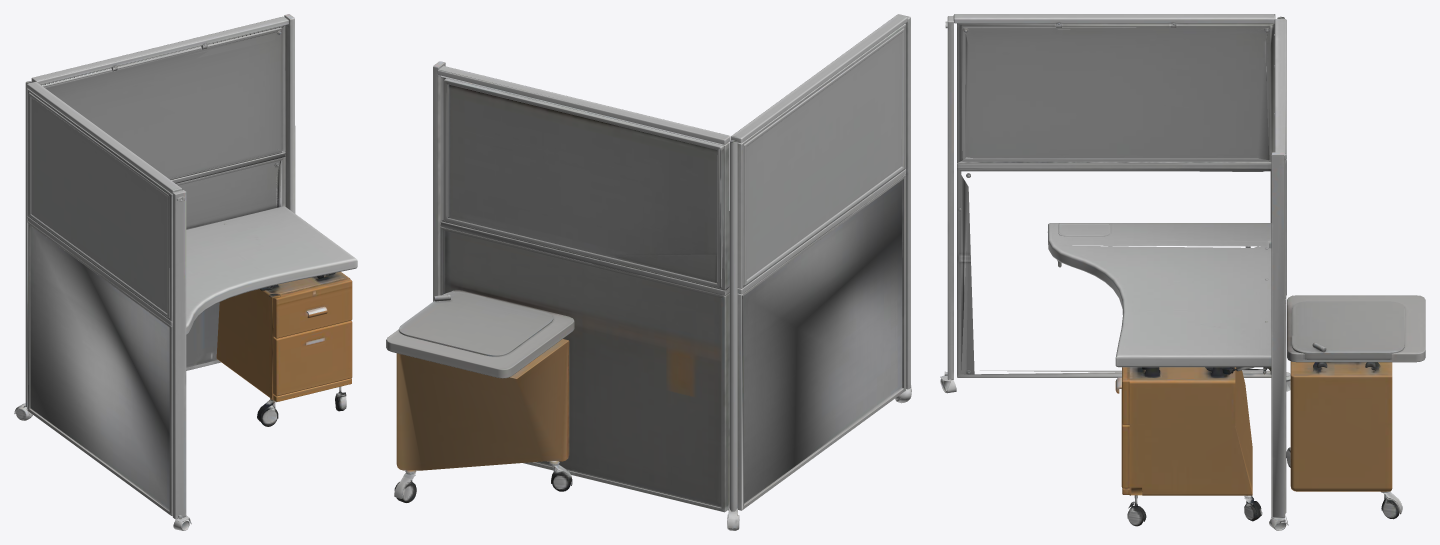
File: toonstudio_office_partition.glb
3 renders of one model, left to right at view 1: azimuth 30°, elevation 25°; view 2: azimuth 150°, elevation 25°; view 3: azimuth 270°, elevation 25°, orthographic. The views are drawn at different scales.
Parts seen in each view (by area): view 1: tripo_31968963_0e36_45fe_a6a4_a40ecbc945c7; view 2: tripo_31968963_0e36_45fe_a6a4_a40ecbc945c7; view 3: tripo_31968963_0e36_45fe_a6a4_a40ecbc945c7.
Part boxes in pixels (x1,y1,x2,y2): tripo_31968963_0e36_45fe_a6a4_a40ecbc945c7: [14, 14, 357, 530]; tripo_31968963_0e36_45fe_a6a4_a40ecbc945c7: [386, 14, 911, 530]; tripo_31968963_0e36_45fe_a6a4_a40ecbc945c7: [940, 14, 1425, 530].
Bounding box in the file's own units: 1.44 × 1.73 × 2.
Materials: 1 (1 with a texture image).
